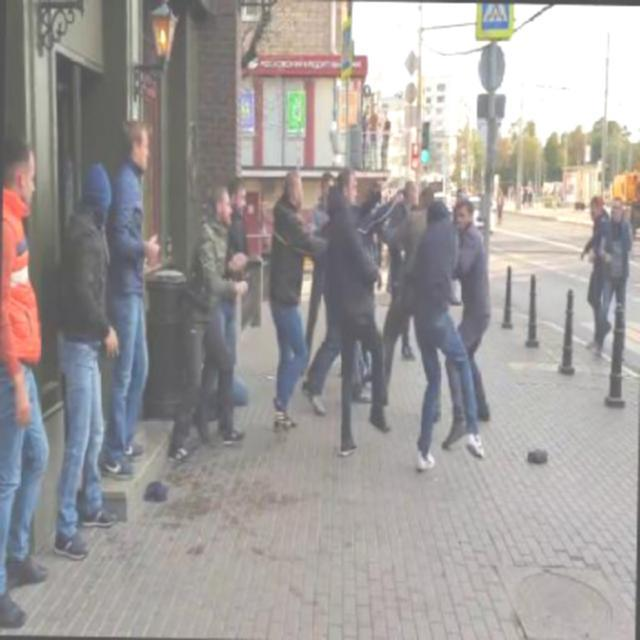non-fight: (0, 130, 57, 636), (56, 162, 121, 562), (166, 184, 249, 463), (264, 162, 307, 436)
